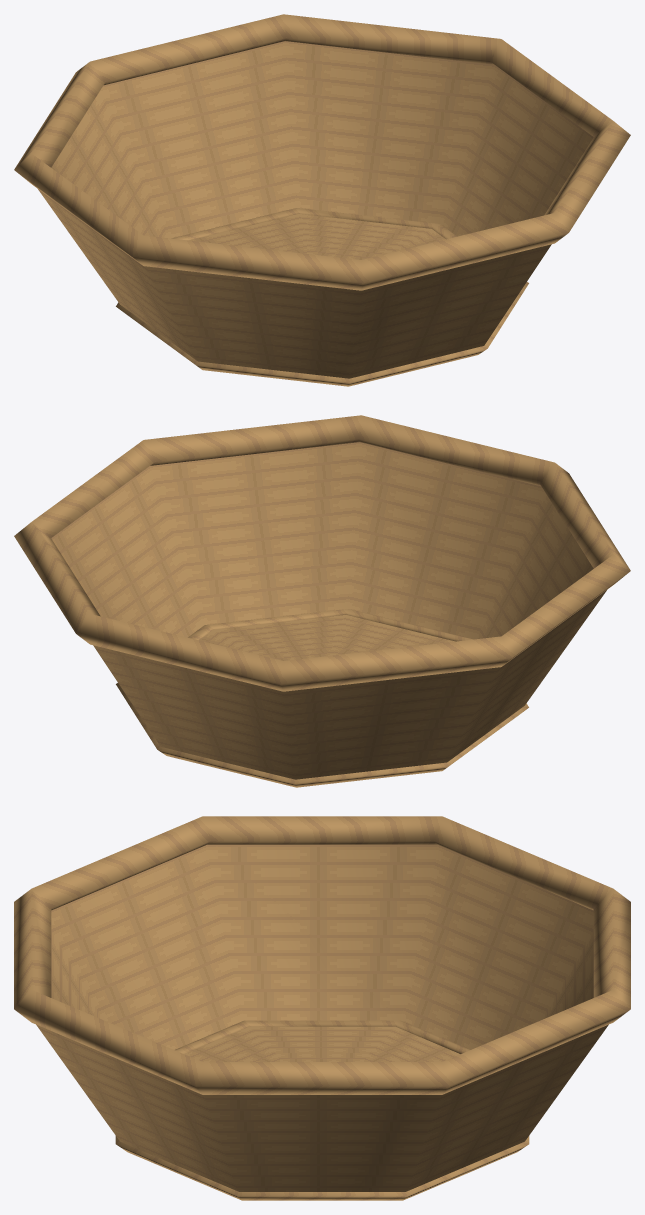
File: 04bc_Fruit_Basket.glb
3 views of the same model, one above another, from view 1: azimuth 30°, elevation 25°; view 2: azimuth 150°, elevation 25°; view 3: azimuth 270°, elevation 25° (orthographic). The views are drawn at different scales.
Parts seen in each view (by area): view 1: part_0; view 2: part_0; view 3: part_0.
Boxes of the visible parts, x1,y1,x2,y2 form: part_0: (14,14,630,386); part_0: (14,415,630,787); part_0: (14,816,630,1200).
Size of the model in its own units: 0.2393 by 0.0767 by 0.2393.
1 material, 1 textured.
